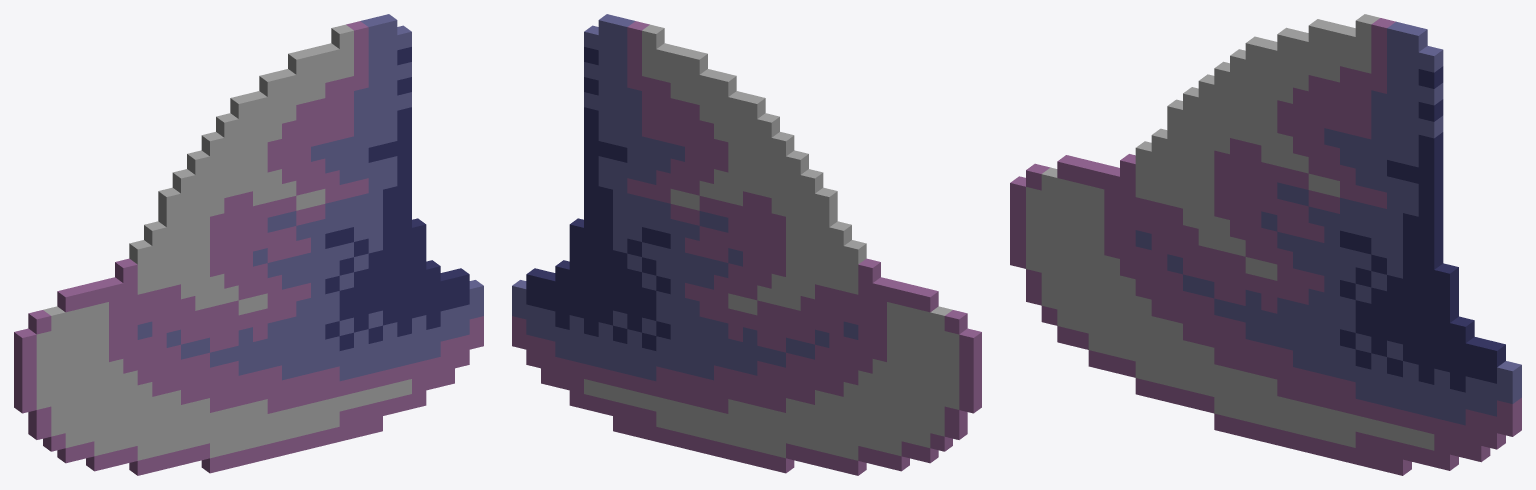
File: C_Hat01.fbx
3 renders of one model, left to right at view 1: azimuth 30°, elevation 25°; view 2: azimuth 150°, elevation 25°; view 3: azimuth 330°, elevation 25°, orthographic. The views are drawn at different scales.
Parts seen in each view (by area): view 1: Default; view 2: Default; view 3: Default.
Boxes of the visible parts, x1,y1,x2,y2 form: Default: (14, 14, 483, 475); Default: (512, 14, 981, 475); Default: (1010, 14, 1521, 475).
Bounding box in the file's own units: 32 × 27 × 1.
Materials: 1 (1 with a texture image).
